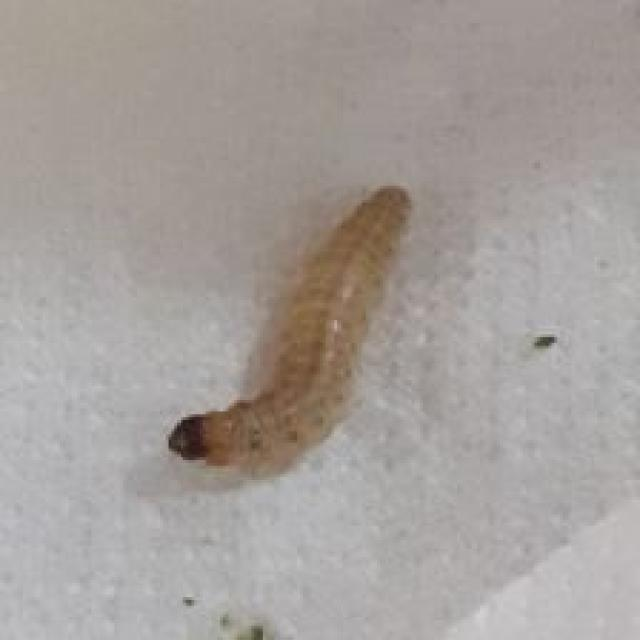white mucus: (83, 157, 500, 500)
